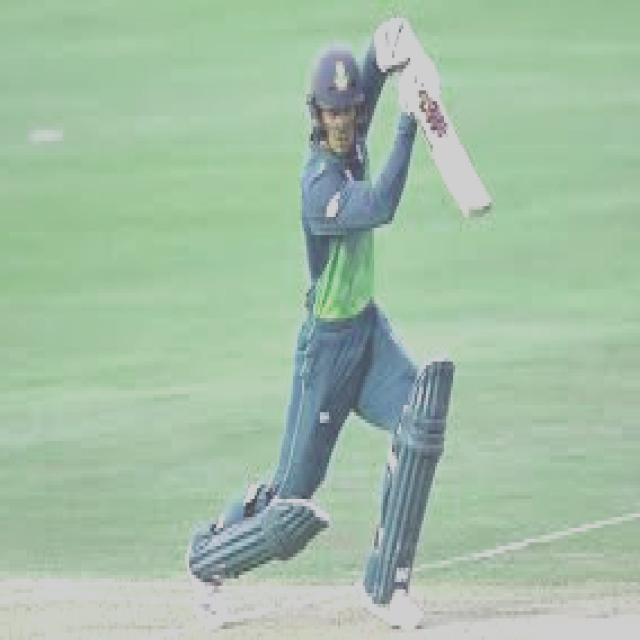bat: (417, 84, 493, 217)
toe: (465, 201, 503, 222)
